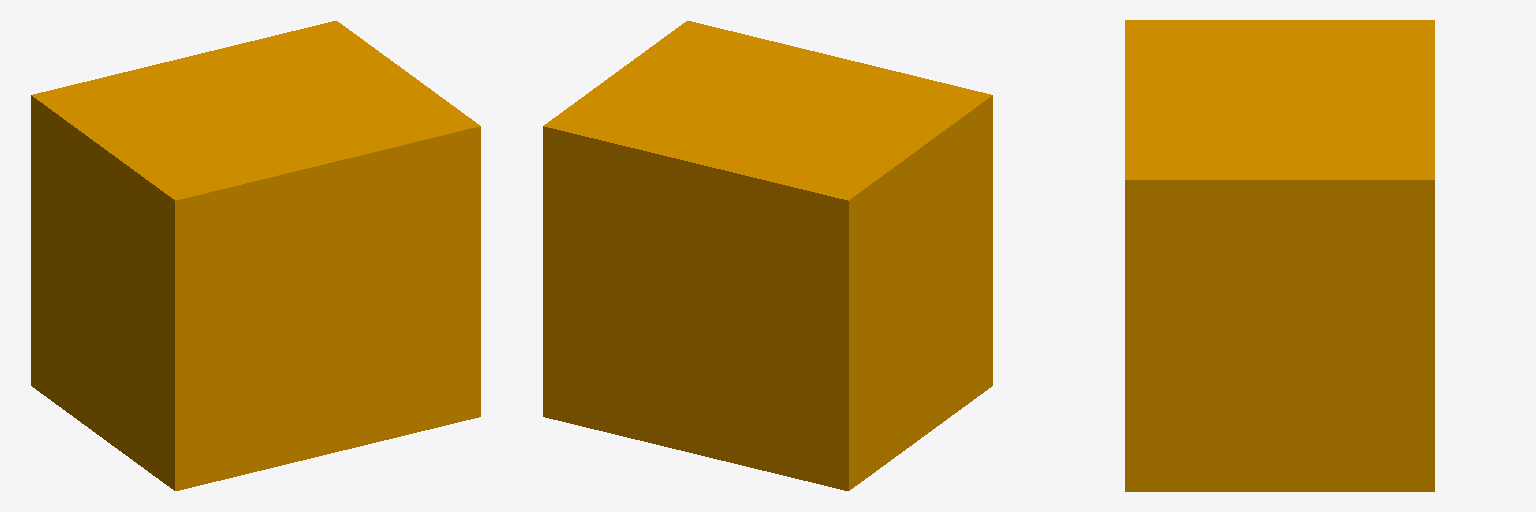
URDF robot description (object):
<robot name="object">
  <link name="object">
    <visual>
      <origin xyz="0 0 0" />
      <geometry>
        <box size="0.08800000000000002 0.07200000000000001 0.08" />
      </geometry>
    </visual>

    <collision>
      <origin xyz="0 0 0" />
      <geometry>
        <box size="0.08800000000000002 0.07200000000000001 0.08" />
      </geometry>
    </collision>

    <inertial>
      <mass value="0.05" />
      <inertia ixx="0.0001" ixy="0.0" ixz="0.0" iyy="0.0001" iyz="0.0" izz="0.0001" />
    </inertial>
  </link>
</robot>

--- Render facts (derived) ---
Views: 3 orthographic renders of the robot side by side, from view 1: azimuth 30°, elevation 25°; view 2: azimuth 150°, elevation 25°; view 3: azimuth 270°, elevation 25°.
Model object with 1 links and 0 joints (none), rooted at object, posed all joints at 0.
Links seen in each view (by area): view 1: object; view 2: object; view 3: object.
Link boxes in pixels (x1,y1,x2,y2): object: (31, 21, 480, 490); object: (543, 21, 992, 490); object: (1125, 20, 1434, 491).
Bounding box of the posed robot: 0.088 × 0.072 × 0.08 m (x, y, z).
Geometry: primitives only (box / cylinder / sphere), no mesh files.